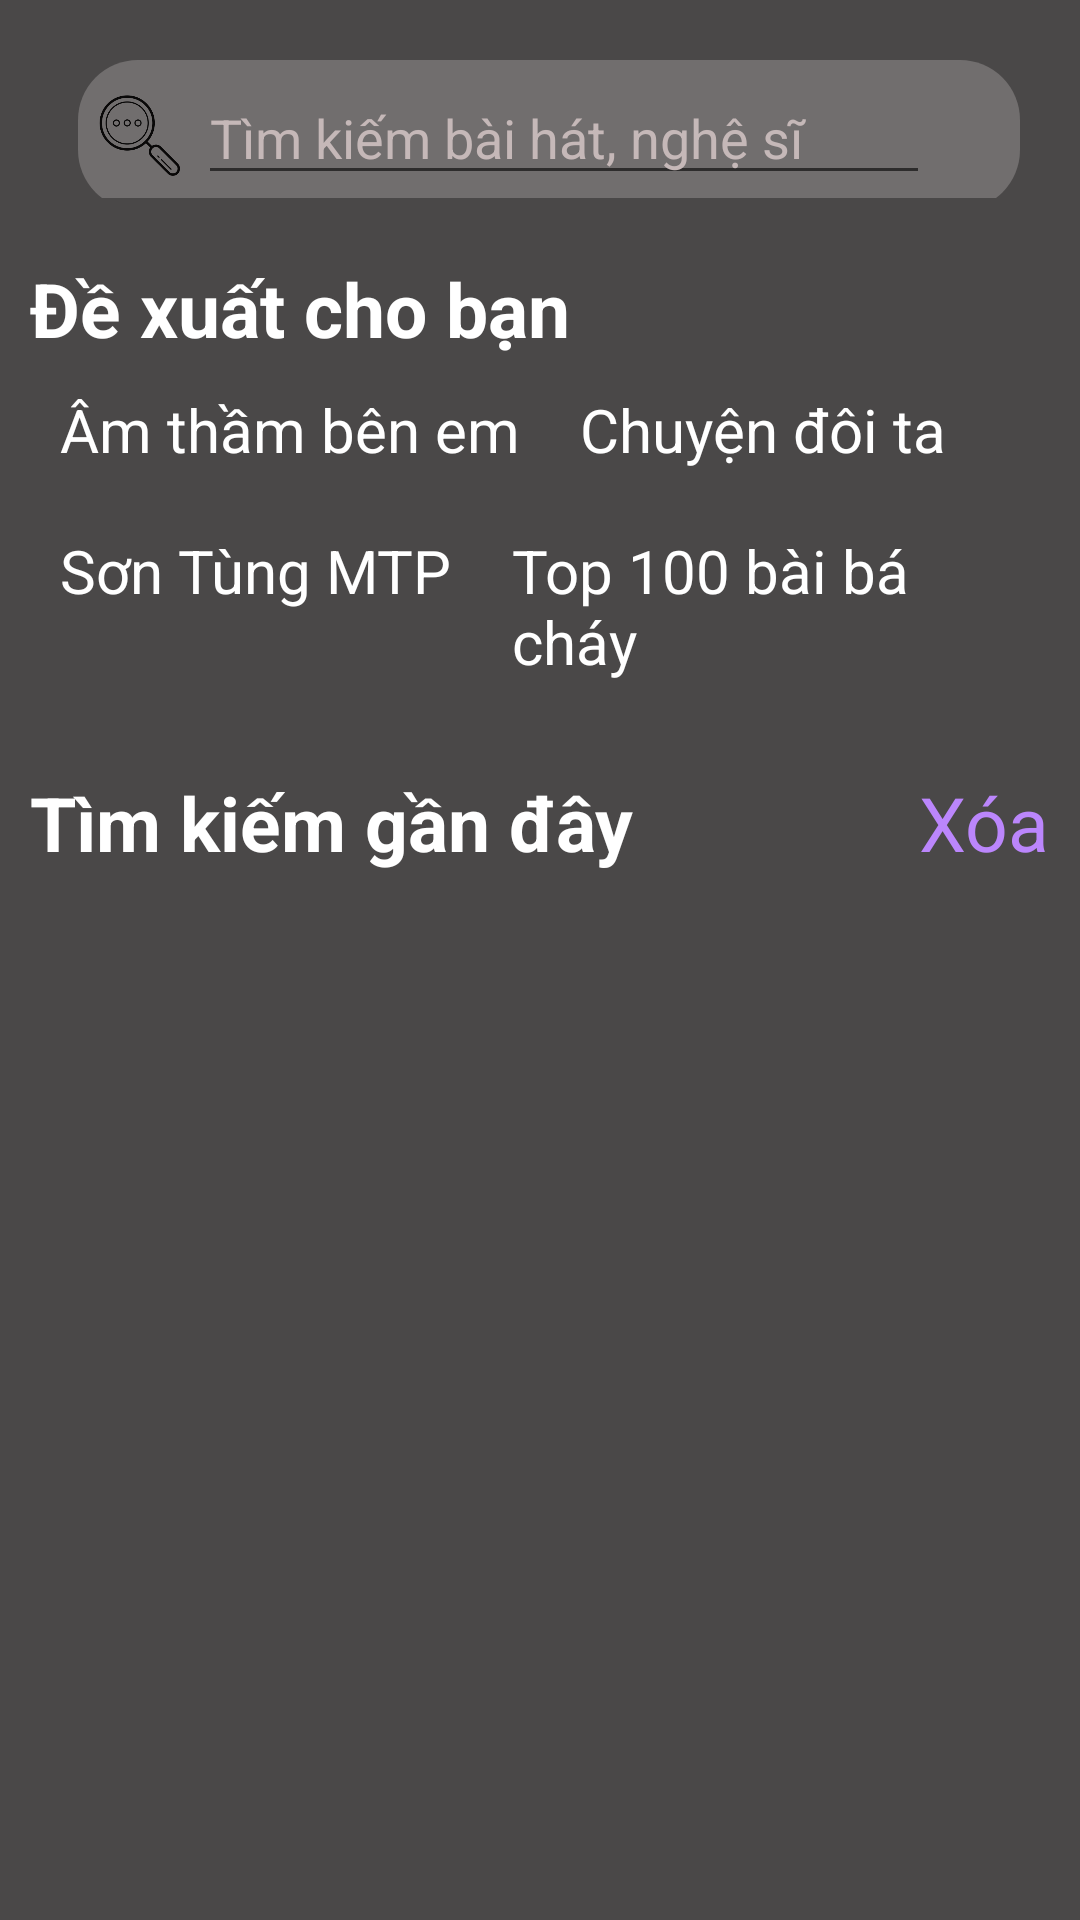

Screen size 1080x1920. Icon name, then its center in pixels as [x,y]:
search: [138,135]
